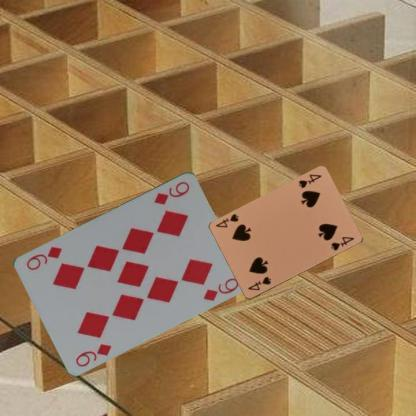4s: (245, 274, 272, 292), (296, 172, 323, 190)
9d: (150, 178, 192, 206), (73, 340, 114, 368)
